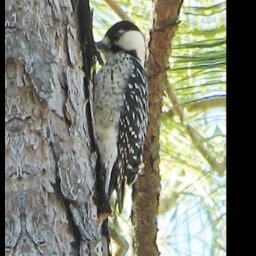Woodpecker: (82, 17, 160, 222)
